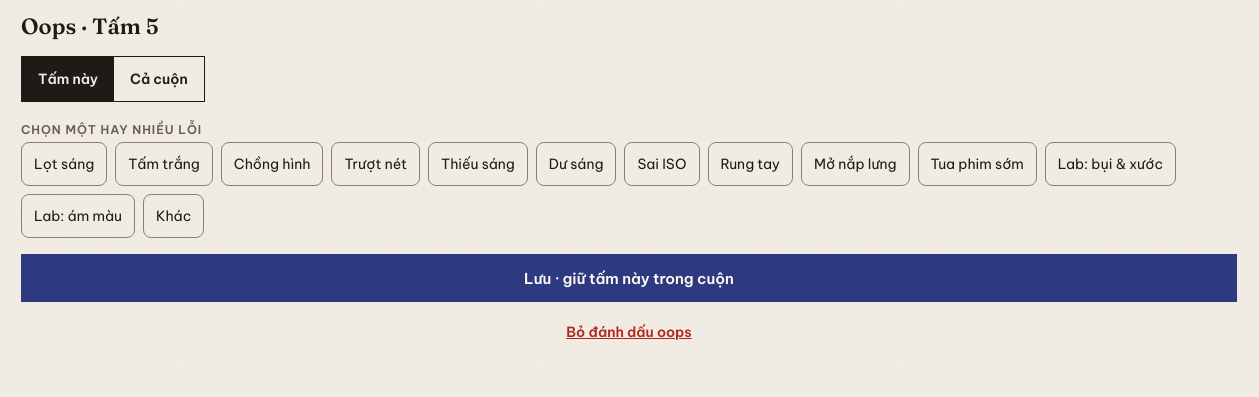
Scenario: MistakePicker (NOTE-2, MistakePicker board) › keeps the picker open with an error when saving fails
Click the button "Lưu · giữ tấm này trong cuộn".
click(629, 278)  # box top-left (21, 254), bottom-right (1237, 302)
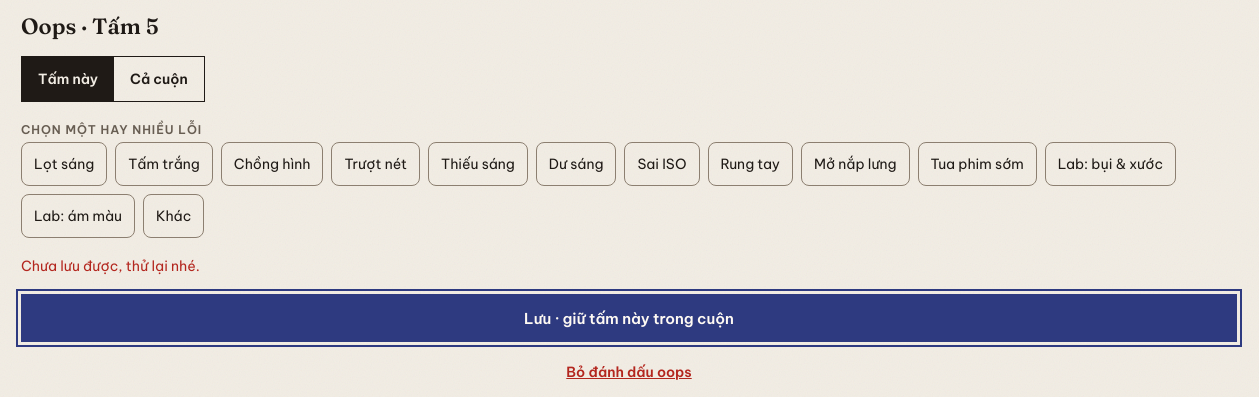
Expected: the message shows "Chưa lưu được", top-left (21, 257), bottom-right (200, 275)
